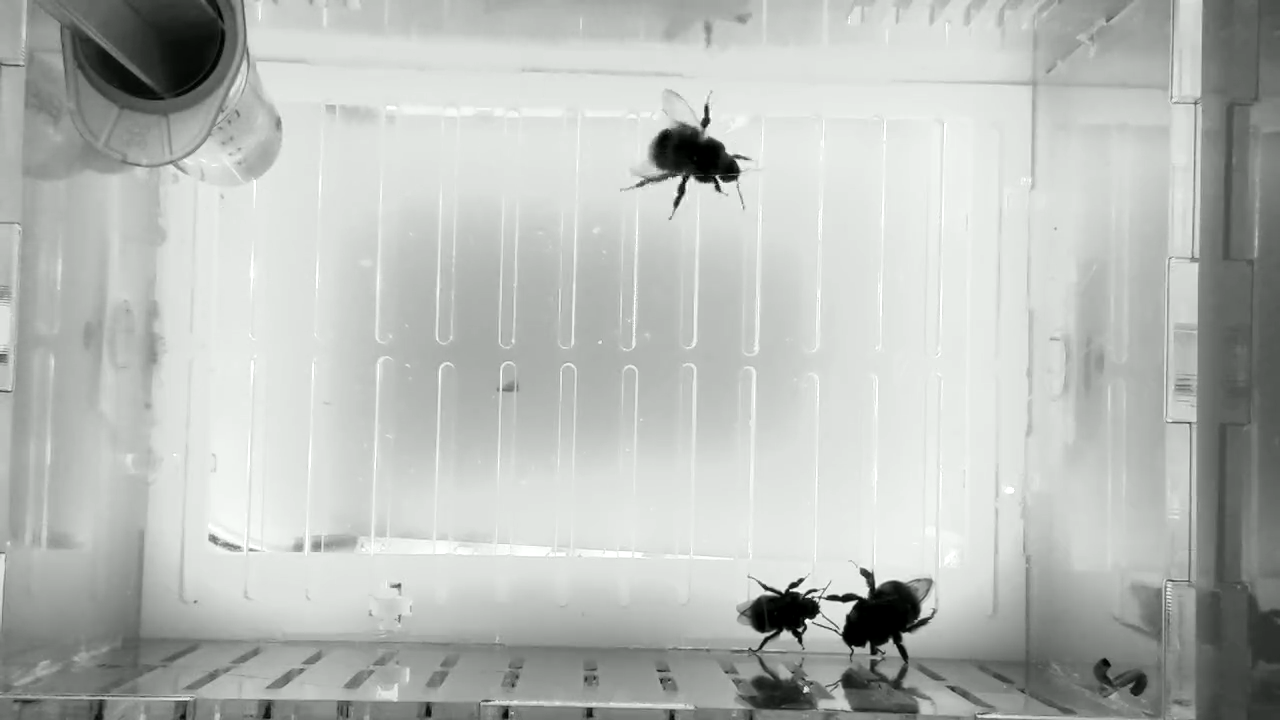bee_alive: (615, 85, 769, 225), (811, 556, 944, 665), (732, 570, 844, 656)
feeder: (174, 56, 286, 189)
